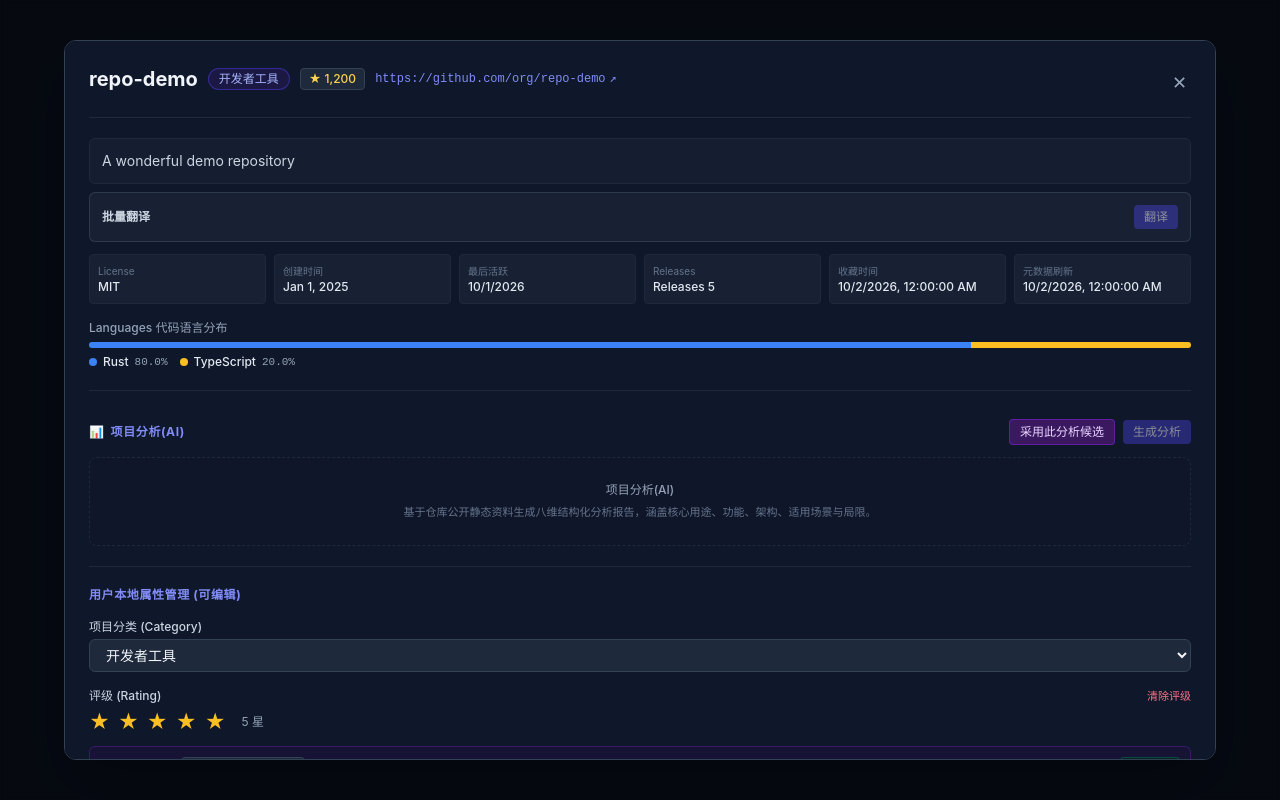
S3 Repository Analysis Frontend Suites › FavoriteDetailModal Analysis Draft & Concurrency › adopts external session preview into draft and shows unsaved badge
Click the button with test id "detail-adopt-preview-btn" at (1062, 432), box [1009,419,1115,445]
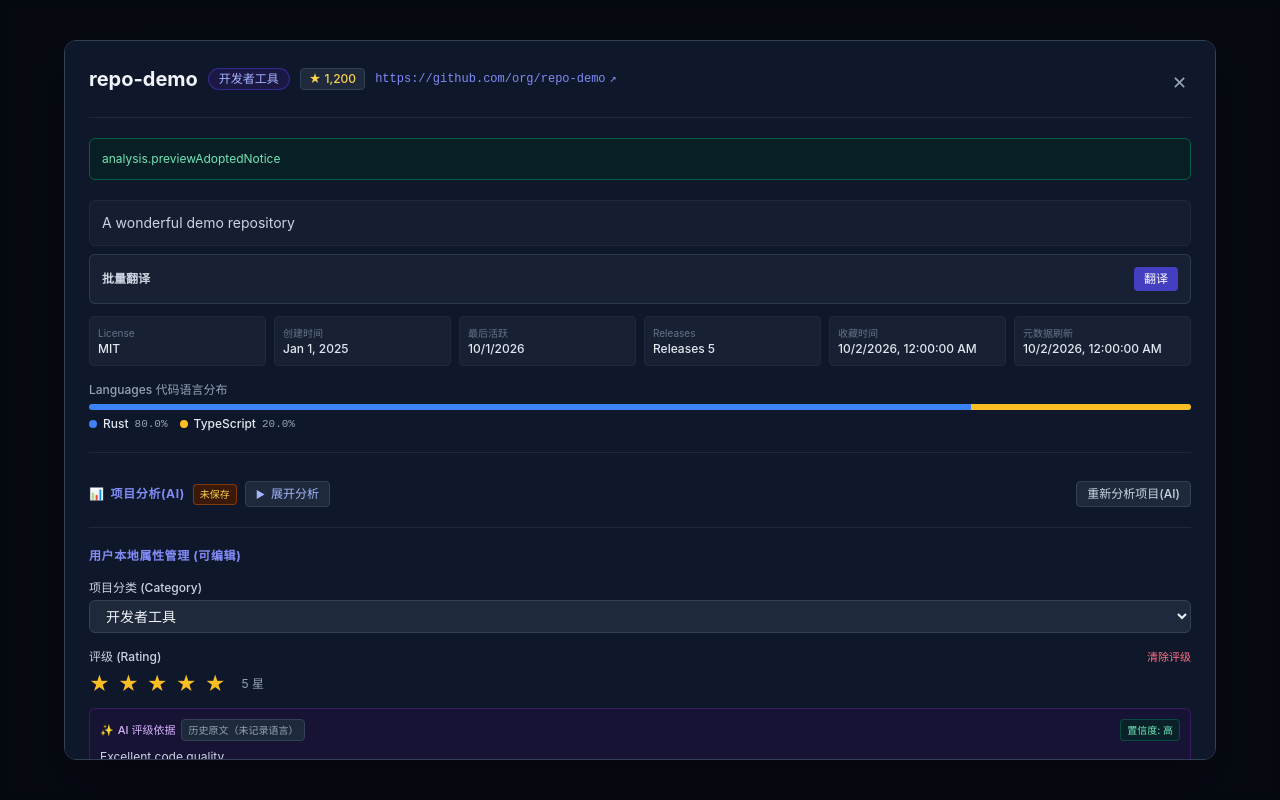
Now the text "未保存" is shown, box [193,484,237,504]
Note: Expanding via toggle button renders report
Click the button with test id "detail-analysis-toggle-btn" at (287, 494), box [245,481,330,507]
(page scrolled)
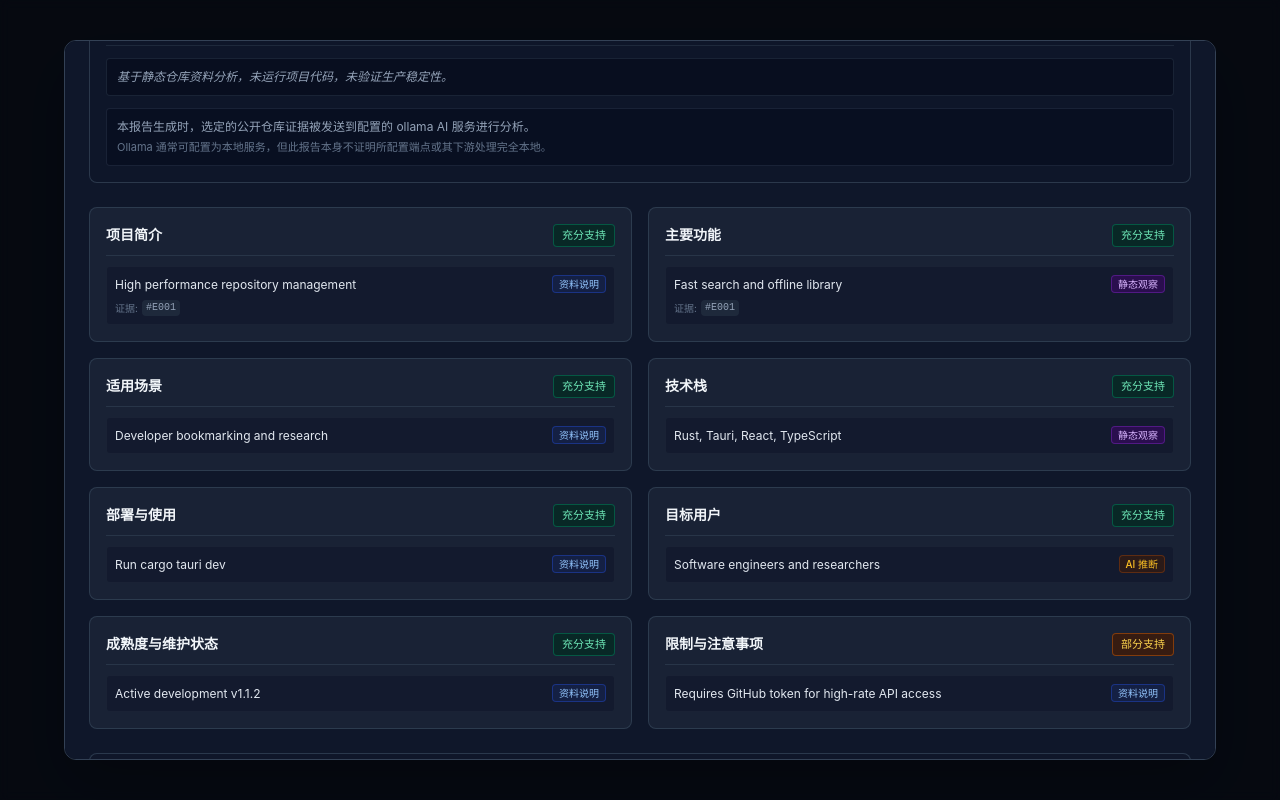
Now the element with test id "detail-analysis-report-container" is shown
